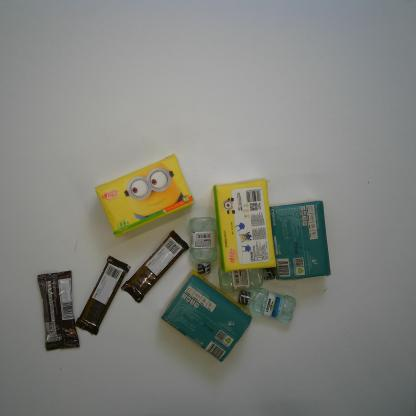Chocolate: (120, 229, 190, 304), (75, 254, 132, 336), (37, 269, 80, 352)
Personal Hygiene: (237, 288, 296, 324), (217, 264, 276, 293), (190, 215, 218, 275)
Tissue: (160, 268, 252, 363), (93, 153, 194, 239), (212, 177, 277, 274), (269, 200, 332, 282)
